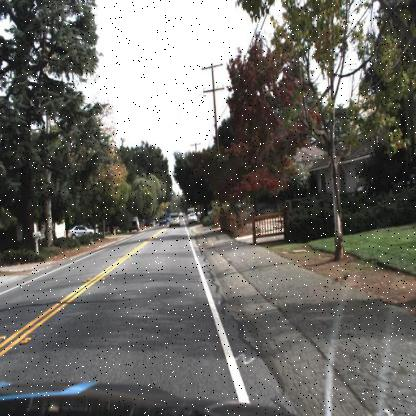car: (66, 222, 100, 243), (65, 222, 98, 240), (126, 214, 142, 237), (168, 211, 182, 230), (186, 212, 200, 225)
